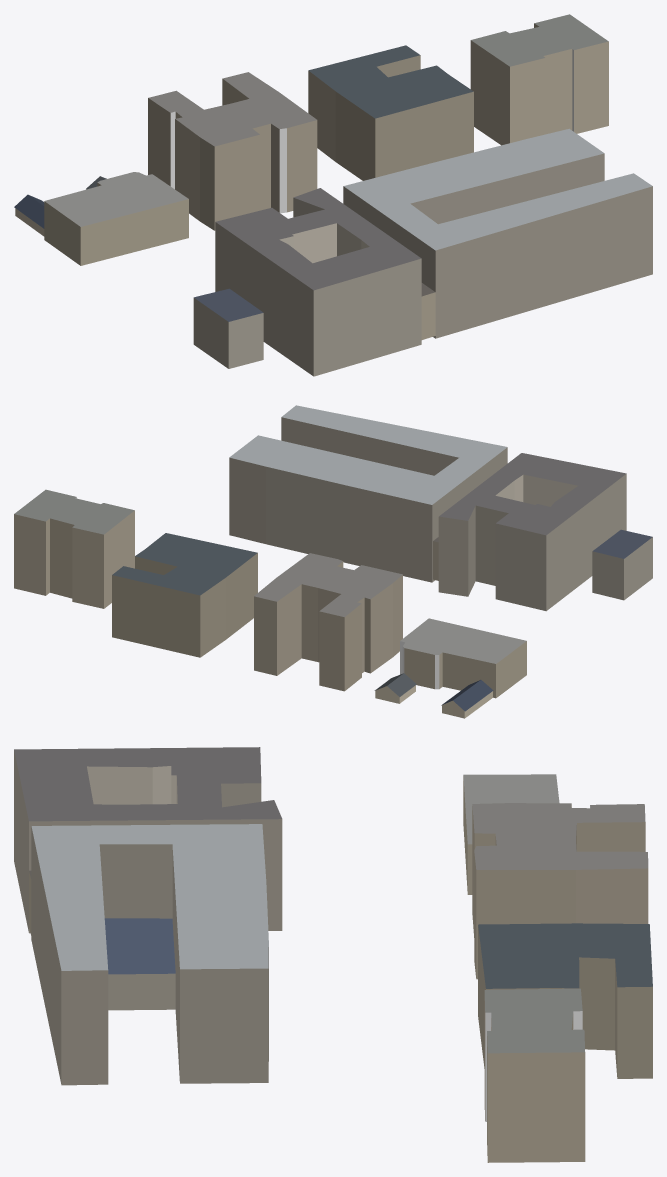
The picture shows the model from 3 angles, top to bottom: view 1: azimuth 30°, elevation 25°; view 2: azimuth 150°, elevation 25°; view 3: azimuth 270°, elevation 25°; orthographic projection. The views are drawn at different scales.
Visible parts, largest first — view 1: tuile; view 2: tuile; view 3: tuile.
Boxes of the visible parts, <box> form: tuile: <box>14,14,652,376</box>; tuile: <box>14,405,652,718</box>; tuile: <box>14,747,652,1162</box>.
Size of the model in its own units: 226 by 39.55 by 179.
